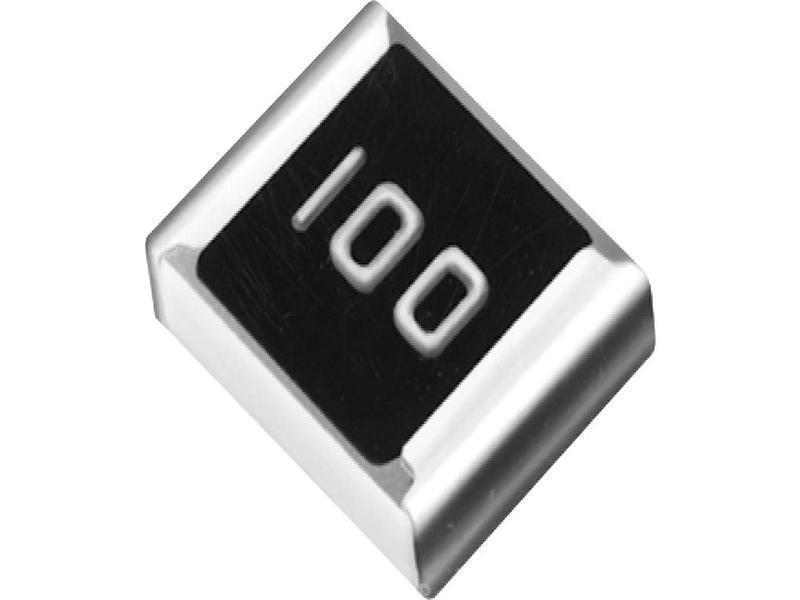SMD resistor: (140, 1, 658, 596)
